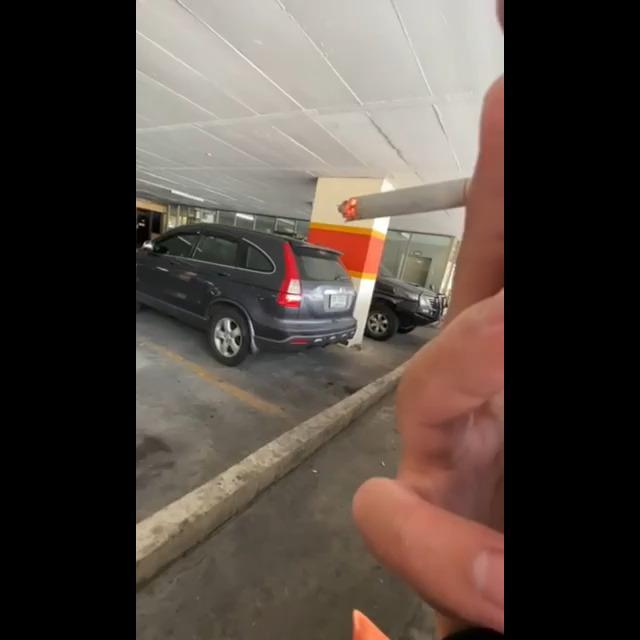rokok: (328, 174, 504, 226)
